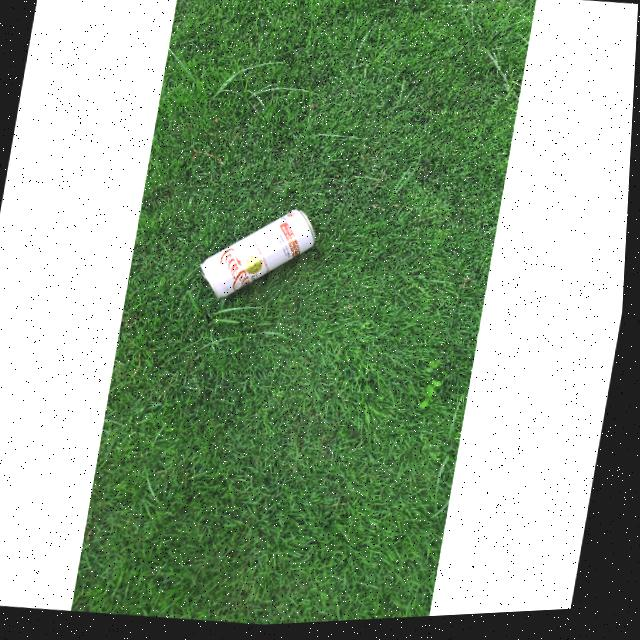Coca Cola Plus: (197, 197, 325, 319)
